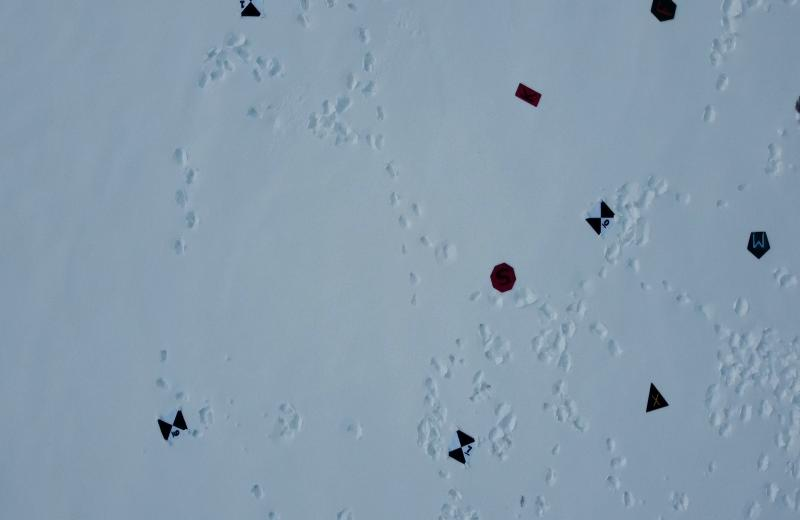Hexagon: (649, 0, 677, 26)
Octagon: (489, 261, 520, 296)
Pentagon: (745, 230, 772, 260)
Rectangle: (513, 80, 544, 112)
Triangle: (640, 382, 669, 414)
